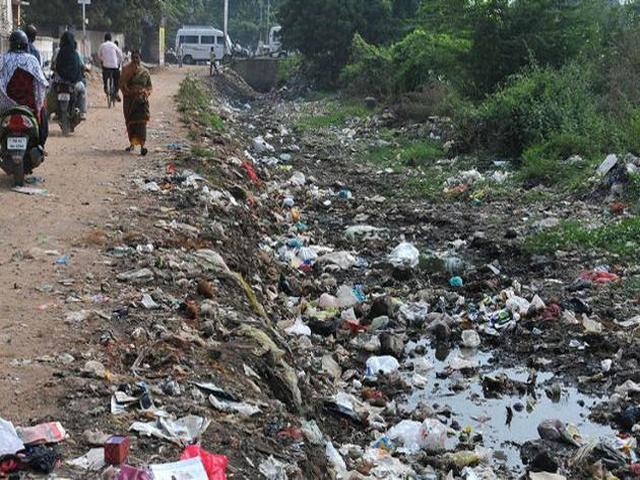garbage: (244, 259, 622, 474), (245, 143, 367, 480), (139, 240, 231, 480)
